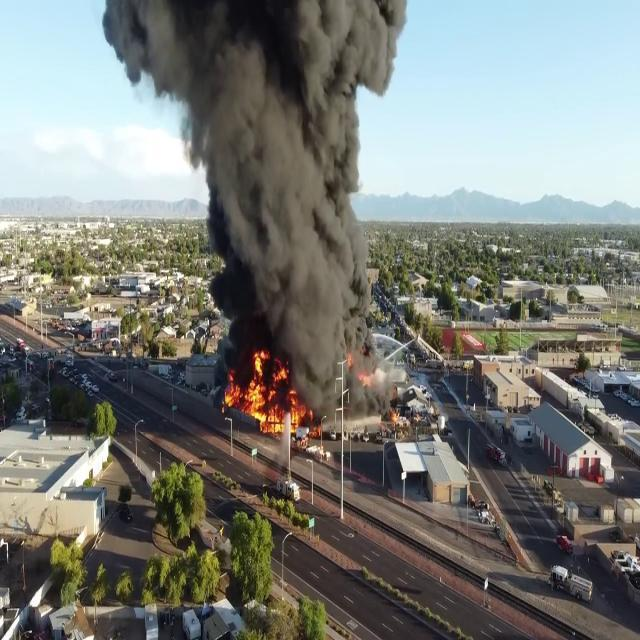Fire: (228, 342, 306, 434)
Smoke: (109, 0, 409, 396)
